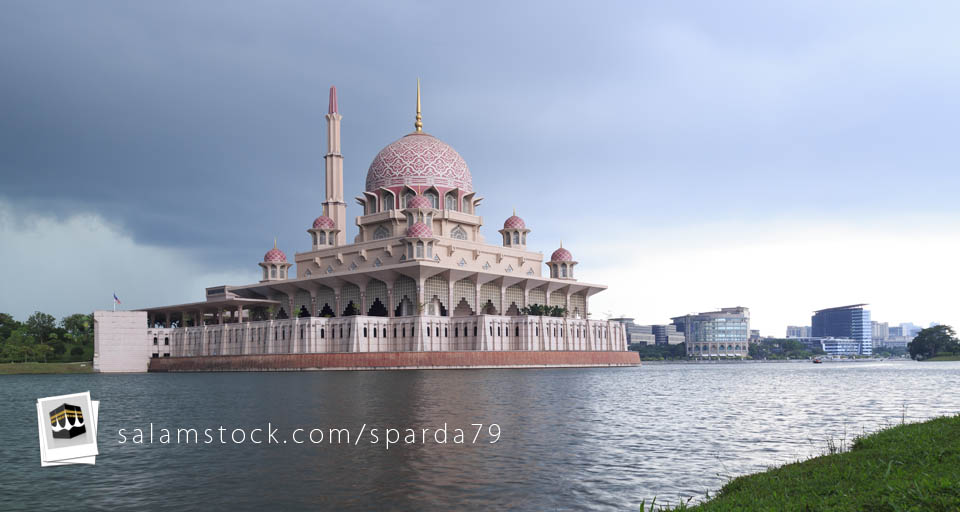Mosque: (140, 88, 621, 379)
